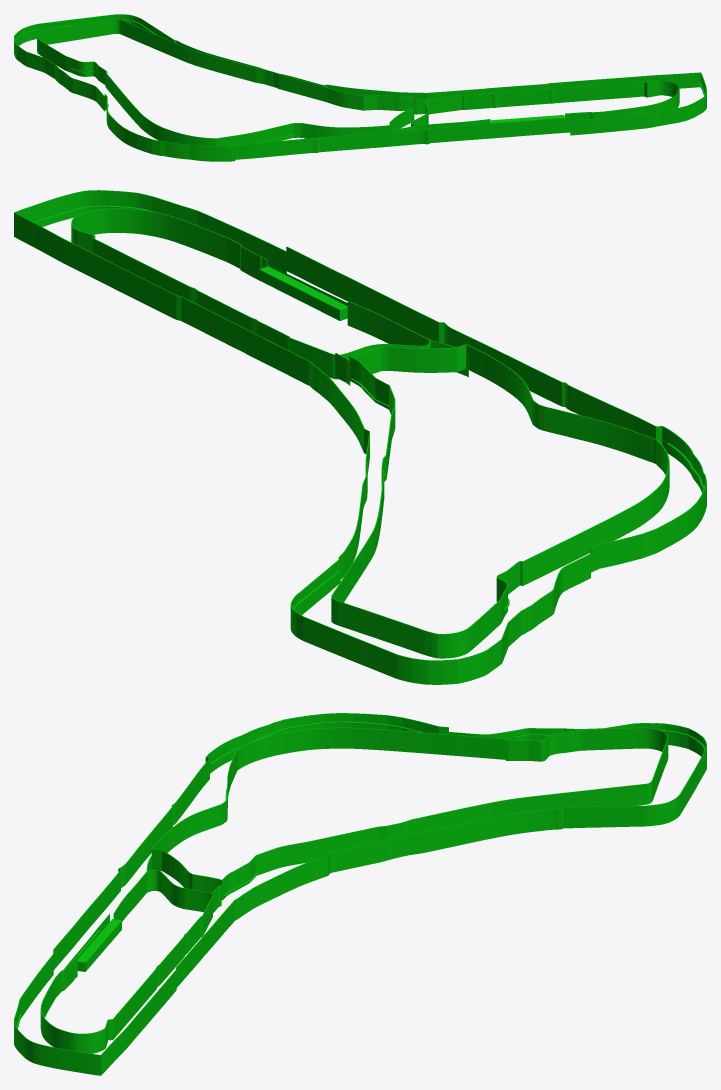
The model's file is MONZA_COLLIDERS.FBX.
3 renders of one model, top to bottom at view 1: azimuth 30°, elevation 25°; view 2: azimuth 150°, elevation 25°; view 3: azimuth 270°, elevation 25°, orthographic. The views are drawn at different scales.
Visible parts, largest first — view 1: colliders_005, colliders_001, colliders_004, colliders_002, collider_003, colliders_safety_walls, colliders_garages; view 2: colliders_005, colliders_002, colliders_001, colliders_004, collider_003, colliders_garages; view 3: colliders_005, colliders_002, colliders_001, colliders_004, collider_003, colliders_garages, colliders_safety_walls.
Boxes of the visible parts, x1,y1,x2,y2 form: colliders_005: (37,19,414,146); colliders_001: (104,94,570,161); colliders_004: (411,80,679,129); colliders_002: (14,14,485,111); collider_003: (486,72,706,135); colliders_safety_walls: (15,19,705,143); colliders_garages: (490,115,564,123); colliders_005: (331,344,669,658); colliders_002: (246,330,590,684); colliders_001: (286,246,706,572); colliders_004: (71,208,430,379); collider_003: (14,190,286,353); colliders_garages: (259,266,347,320); colliders_005: (151,727,668,900); colliders_002: (206,723,706,953); colliders_001: (53,713,448,969); colliders_004: (40,870,212,1053); collider_003: (14,933,205,1075); colliders_garages: (77,919,121,971); colliders_safety_walls: (16,721,705,1028).
Bounding box in the file's own units: 37456 × 1426 × 32471.
